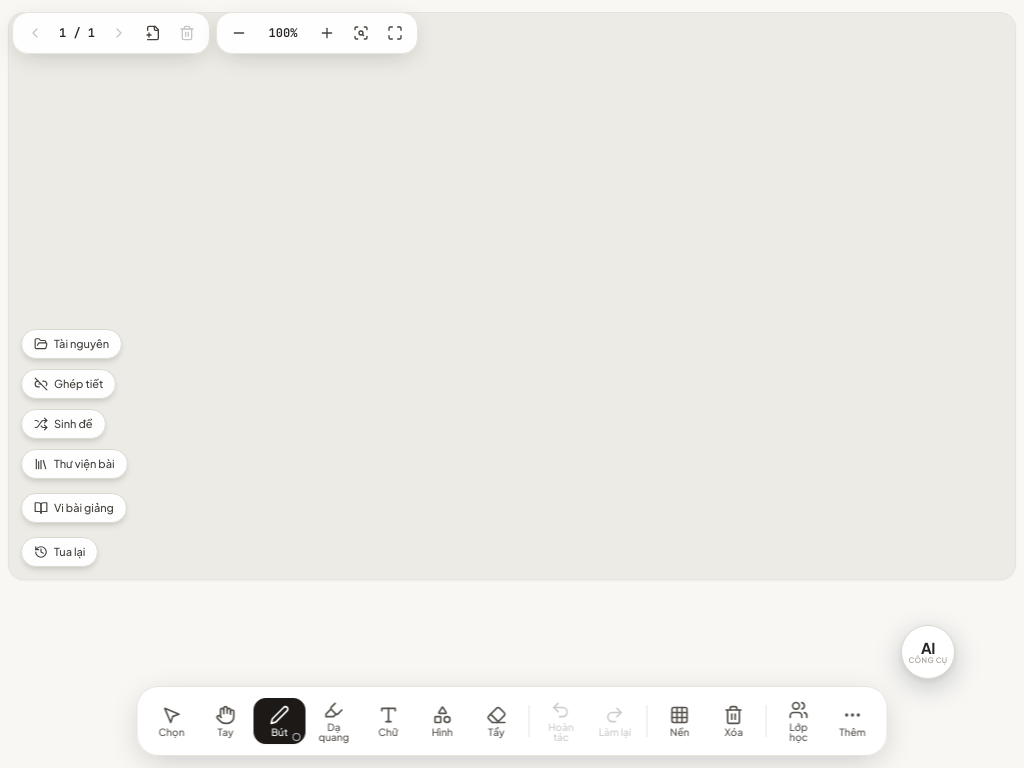
Test: Nâng cấp 3 — Hỏi đáp AI hiểu ngữ cảnh bảng (thay cho bộ câu trả lời soạn sẵn) › AI hub mở thẻ hỏi đáp; thẻ nói rõ AI sẽ dựa vào gì và gợi ý theo bảng (không phải câu cố định)
Click the button with test id "ai-fab" at (928, 652), box [901,625,955,679]
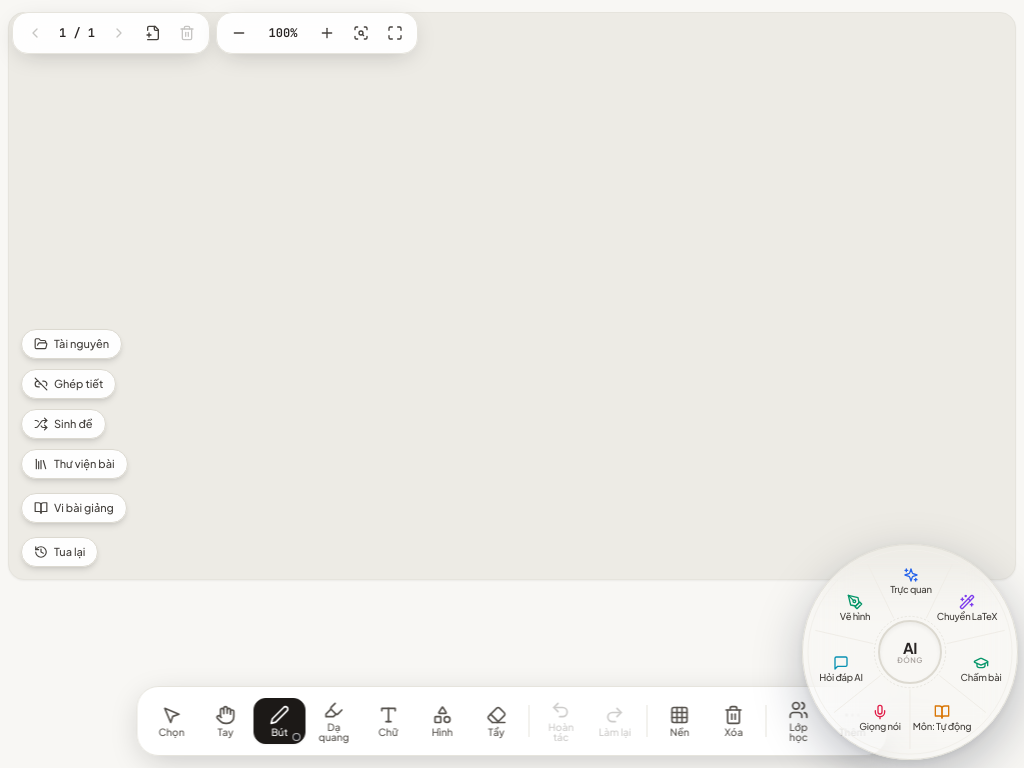
Click the button with test id "ai-fab-qa" at (841, 669), box [813,645,869,693]
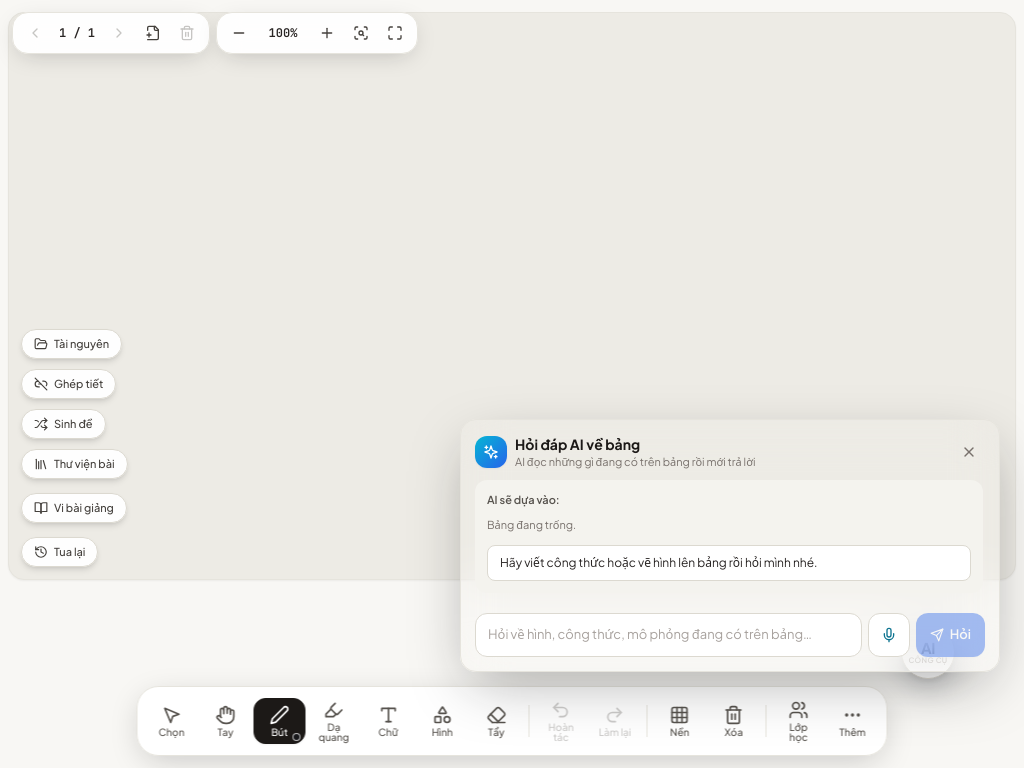
Expected: the element with test id "board-ask-card" is shown, [460,418,1000,672]
Expected: the element with test id "board-ask-read" shows "Bảng đang trống", [487,518,576,530]
